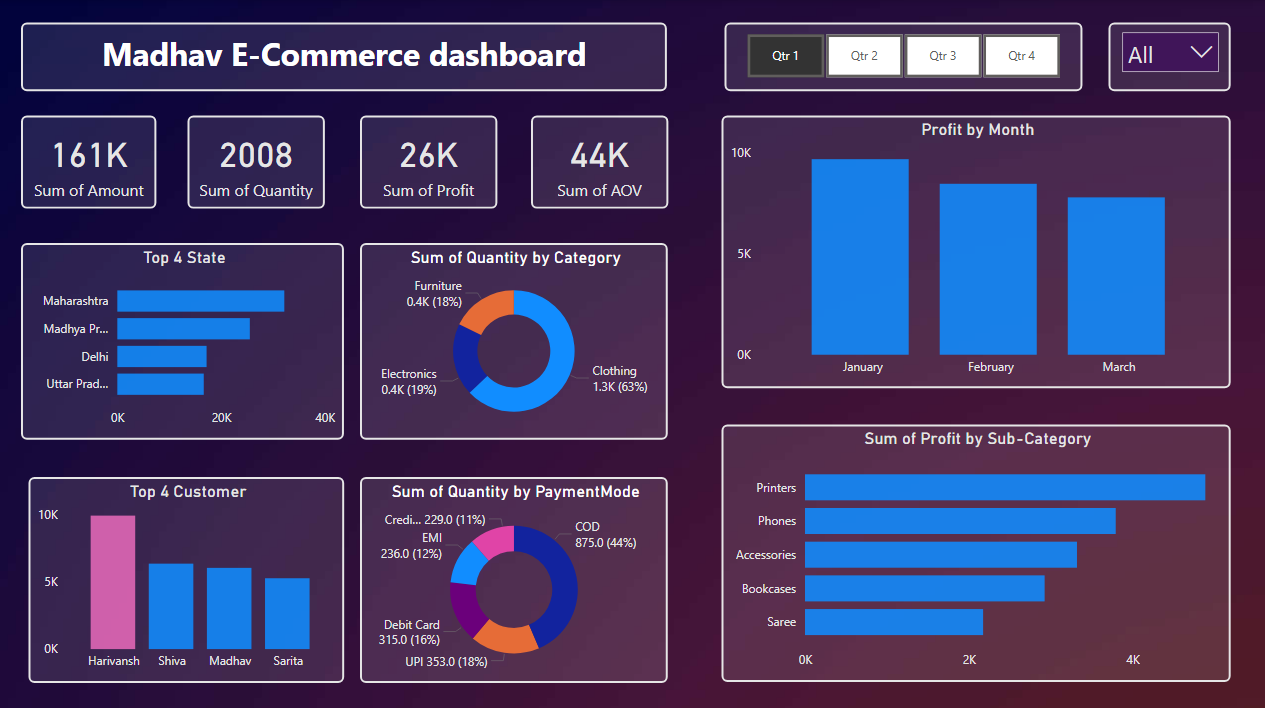

The page's visual inventory and layout, read from the dashboard file:
{"tool":"powerbi","page":{"name":"Page 1","canvas":[1280,720],"ordinal":0},"visuals":[{"type":"textbox","box":[21.5,23.1,652.3,69.2],"z":0},{"type":"columnChart","title":"Profit by Month","fields":{"Category":["Orders.Order Date.Variation.Date Hierarchy.Month"],"Y":["Details.Profit"]},"box":[727.7,116.9,513.8,275.4],"z":1000},{"type":"barChart","fields":{"Category":["Details.Sub-Category"],"Y":["Details.Profit"]},"box":[727.7,429.2,513.8,260],"z":2000},{"type":"donutChart","fields":{"Category":["Details.Category"],"Y":["Details.Quantity"]},"box":[363.1,244.6,310.8,198.5],"z":3000},{"type":"donutChart","fields":{"Y":["Details.Quantity"],"Category":["Details.PaymentMode"]},"box":[363.1,481.5,310.8,207.7],"z":4000},{"type":"card","fields":{"Values":["Details.Amount"]},"box":[21.5,116.9,136.9,93.8],"z":5000},{"type":"card","fields":{"Values":["Details.Quantity"]},"box":[189.2,116.9,138.5,93.8],"z":6000},{"type":"card","fields":{"Values":["Details.Profit"]},"box":[363.1,116.9,138.5,93.8],"z":7000},{"type":"card","fields":{"Values":["Details.AOV"]},"box":[535.4,116.9,138.5,93.8],"z":8000},{"type":"barChart","title":"Top 4 State","fields":{"Category":["Orders.State"],"Y":["Details.Amount"]},"box":[21.5,244.6,326.2,198.5],"z":9000},{"type":"columnChart","title":"Top 4 Customer","fields":{"Category":["Orders.CustomerName"],"Y":["Details.Amount"]},"box":[29.2,481.5,318.5,207.7],"z":10000},{"type":"slicer","fields":{"Values":["Orders.Order Date.Variation.Date Hierarchy.Quarter"]},"box":[730.8,23.1,361.5,69.2],"z":11000},{"type":"slicer","fields":{"Values":["Orders.State"]},"box":[1118.5,23.1,123.1,69.2],"z":12000}]}

Visuals, with their boxes in screenshot pixels (x1, y1, x2, y2), scaled from the page's 1280x720 canvas onto the 1265x708 screenshot:
textbox: locate(21, 23, 666, 91)
"Profit by Month" columnChart: locate(719, 115, 1227, 386)
barChart - Details.Sub-Category x Details.Profit: locate(719, 422, 1227, 678)
donutChart - Details.Category x Details.Quantity: locate(359, 241, 666, 436)
donutChart - Details.Quantity x Details.PaymentMode: locate(359, 473, 666, 678)
card - Details.Amount: locate(21, 115, 157, 207)
card - Details.Quantity: locate(187, 115, 324, 207)
card - Details.Profit: locate(359, 115, 496, 207)
card - Details.AOV: locate(529, 115, 666, 207)
"Top 4 State" barChart: locate(21, 241, 344, 436)
"Top 4 Customer" columnChart: locate(29, 473, 344, 678)
slicer - Orders.Order Date.Variation.Date Hierarchy.Quarter: locate(722, 23, 1079, 91)
slicer - Orders.State: locate(1105, 23, 1227, 91)
